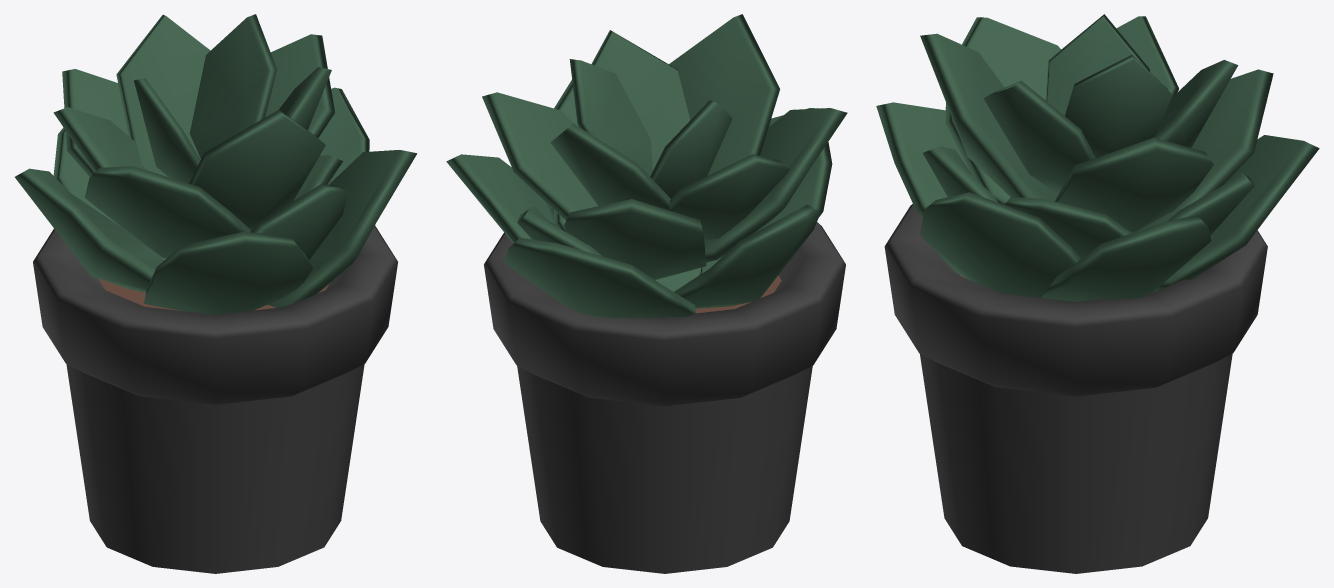
File: flower_003.fbx
3 renders of one model, left to right at view 1: azimuth 30°, elevation 25°; view 2: azimuth 150°, elevation 25°; view 3: azimuth 270°, elevation 25°, orthographic. The views are drawn at different scales.
Parts seen in each view (by area): view 1: flower_003; view 2: flower_003; view 3: flower_003.
Boxes of the visible parts, x1,y1,x2,y2 form: flower_003: [15, 14, 417, 573]; flower_003: [446, 14, 847, 573]; flower_003: [876, 14, 1319, 573].
Bounding box in the file's own units: 48.75 × 51.4 × 63.06.
